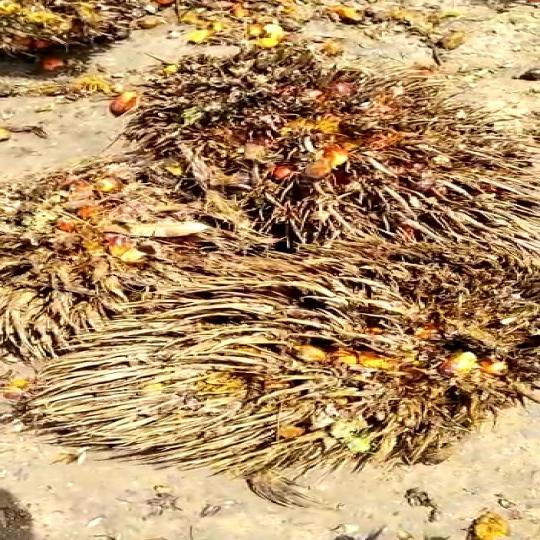terlalu masak: (0, 238, 536, 477), (121, 53, 514, 242)
